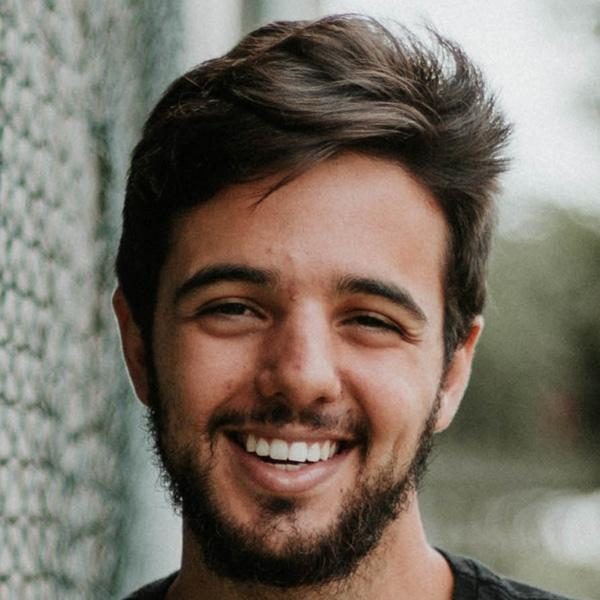Eyes: (325, 296, 421, 355), (185, 285, 276, 338)
